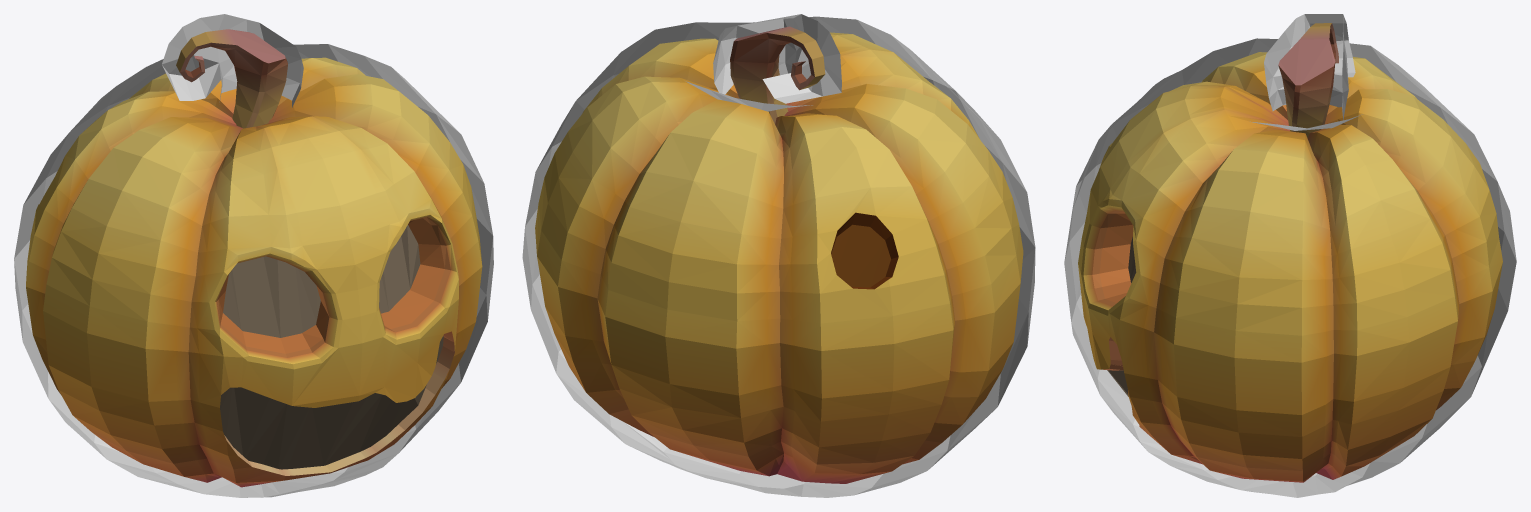
Rendered from pickup_zombielHelmet_outline_MESH.glb.
3 renders of one model, left to right at view 1: azimuth 30°, elevation 25°; view 2: azimuth 150°, elevation 25°; view 3: azimuth 270°, elevation 25°, orthographic. The views are drawn at different scales.
Parts seen in each view (by area): view 1: pickup_zombielHelmet_outline_MESH; view 2: pickup_zombielHelmet_outline_MESH; view 3: pickup_zombielHelmet_outline_MESH.
Boxes of the visible parts, x1=… form: pickup_zombielHelmet_outline_MESH: x1=14, y1=14, x2=493, y2=497; pickup_zombielHelmet_outline_MESH: x1=522, y1=14, x2=1035, y2=497; pickup_zombielHelmet_outline_MESH: x1=1064, y1=14, x2=1516, y2=497.
Size of the model in its own units: 0.7229 by 0.702 by 0.6635.
